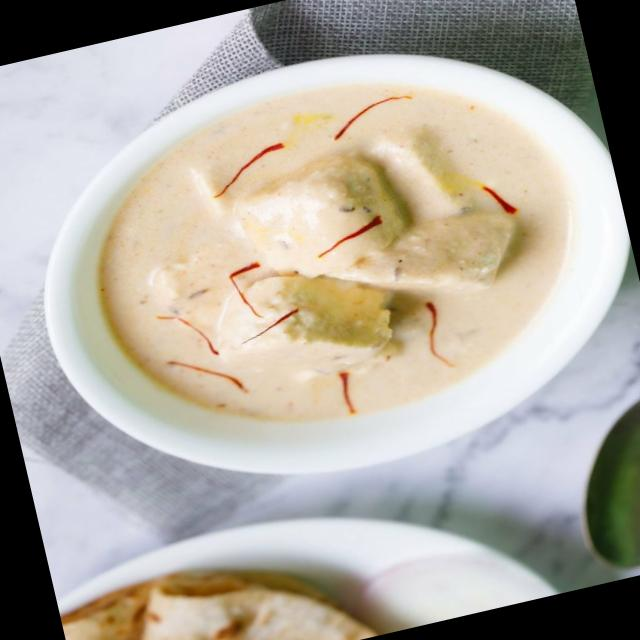ShahiPaneer: (64, 36, 610, 464)
